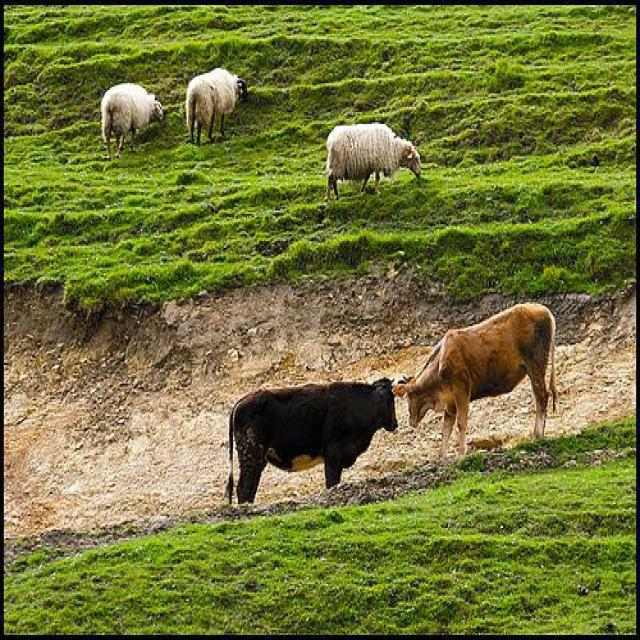Sheep: (325, 122, 423, 202), (186, 68, 250, 149), (101, 83, 164, 161)
